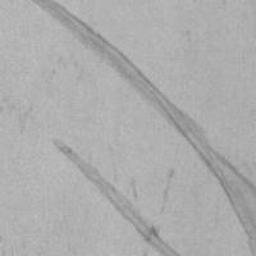Water spot: (33, 0, 256, 256), (54, 141, 181, 256), (168, 169, 175, 179)
